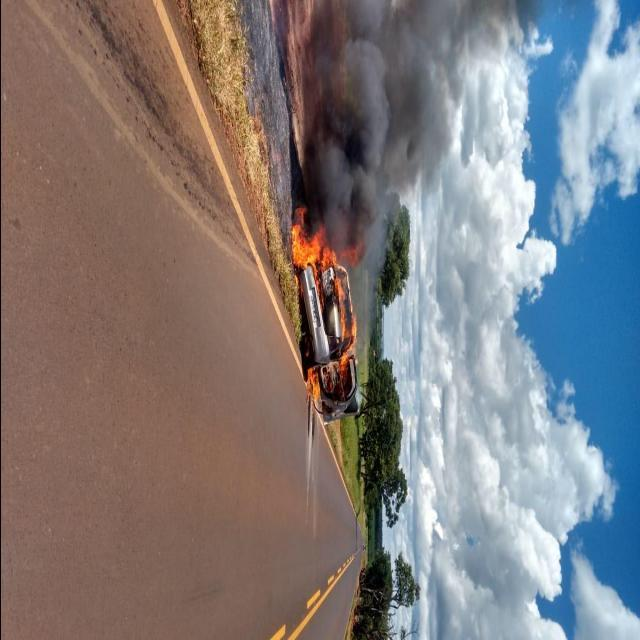Fire: (290, 215, 336, 281), (336, 282, 360, 390), (306, 369, 322, 409)
